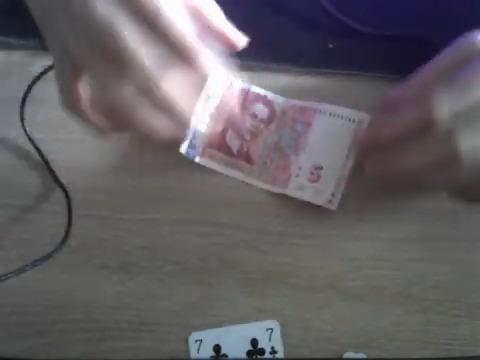5leva: (178, 64, 371, 211)
